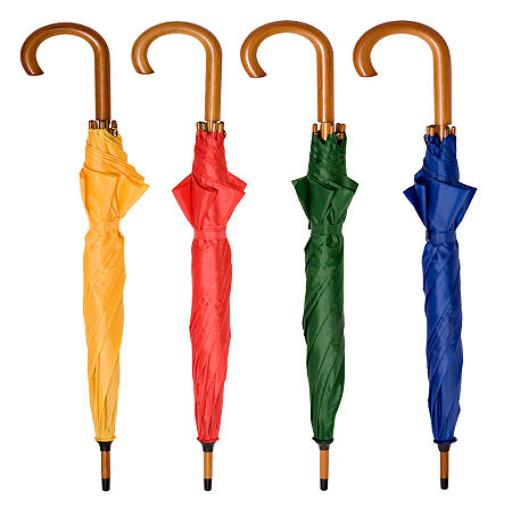guarda_chuva: (18, 21, 150, 490), (352, 19, 477, 489), (239, 18, 358, 490), (130, 20, 247, 490)
